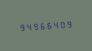four: (24, 21, 30, 32), (52, 19, 58, 30)
nine: (66, 18, 72, 29), (17, 22, 23, 32), (31, 21, 37, 31)
six: (38, 20, 44, 31), (45, 20, 51, 30)
zero: (59, 19, 65, 29)
